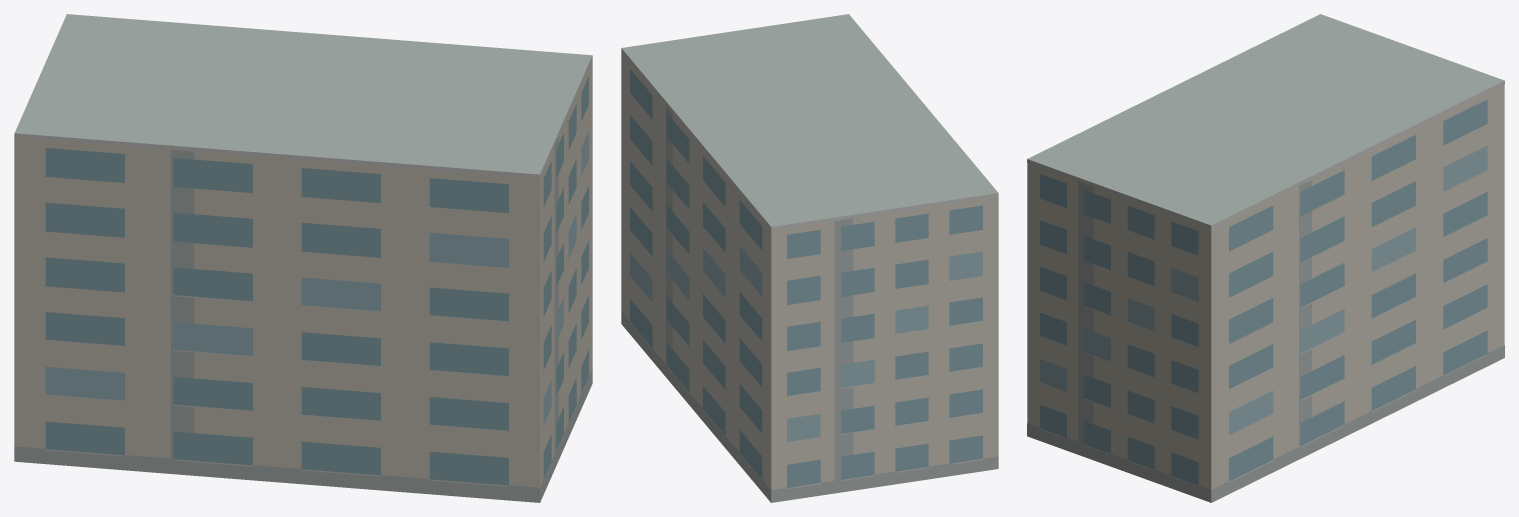
File: residential-44b866ec-990a-4097-b86c-81dd430eae7b.glb
3 views of the same model, side by side, from view 1: azimuth 30°, elevation 25°; view 2: azimuth 150°, elevation 25°; view 3: azimuth 270°, elevation 25° (orthographic). The views are drawn at different scales.
Parts seen in each view (by area): view 1: residential-44b866ec-990a-4097-b86c-81dd430eae7b.tmp; view 2: residential-44b866ec-990a-4097-b86c-81dd430eae7b.tmp; view 3: residential-44b866ec-990a-4097-b86c-81dd430eae7b.tmp.
Part boxes in pixels (x1,y1,x2,y2): residential-44b866ec-990a-4097-b86c-81dd430eae7b.tmp: [14, 14, 592, 502]; residential-44b866ec-990a-4097-b86c-81dd430eae7b.tmp: [621, 14, 998, 502]; residential-44b866ec-990a-4097-b86c-81dd430eae7b.tmp: [1027, 14, 1504, 502].
Size of the model in its own units: 29.95 by 18.3 by 28.57.
